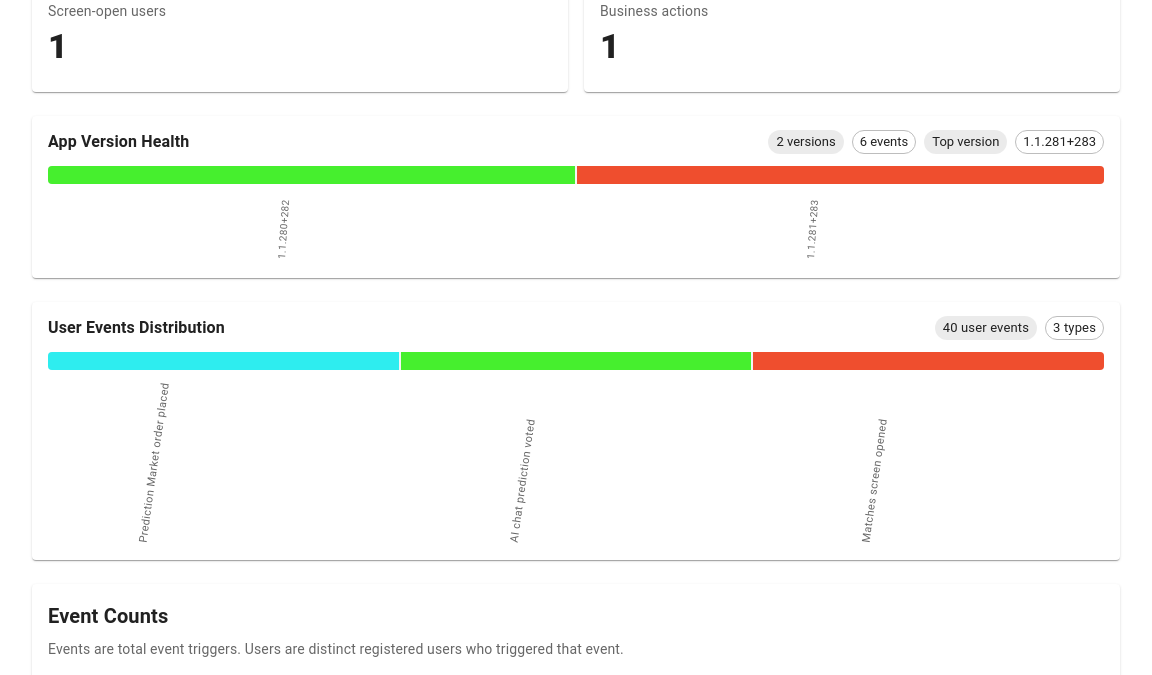
AppEventsAnalyticsDashboard › opens event breakdown from the user events distribution heatmap
The width and height of the screenshot is (1152, 675).
(page scrolled)
Expected: the heading "User Events Distribution" is shown, [48,314,225,342]
Click the button named "Open user event distribution for AI chat prediction voted". click: (576, 361)
box: [401,352,751,370]
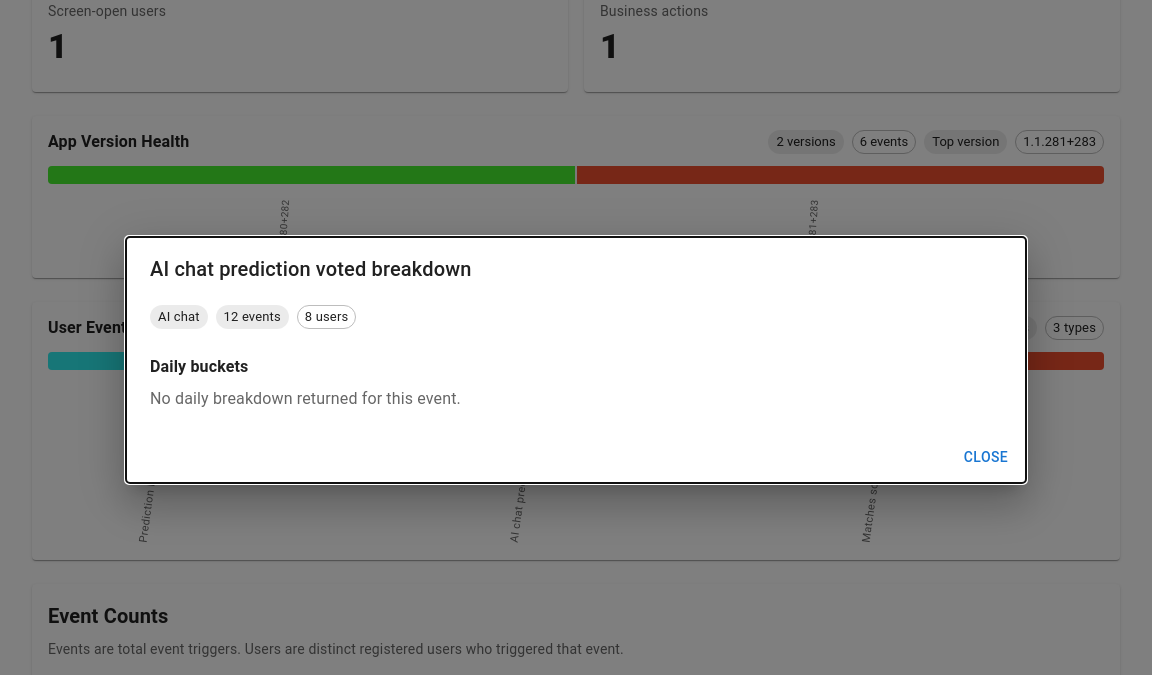
Now the dialog "AI chat prediction voted breakdown" is shown, box [126,237,1026,483]
Now the text "12 events" is shown, box [224,309,281,324]
Now the text "8 users" is shown, box [305,309,348,324]
